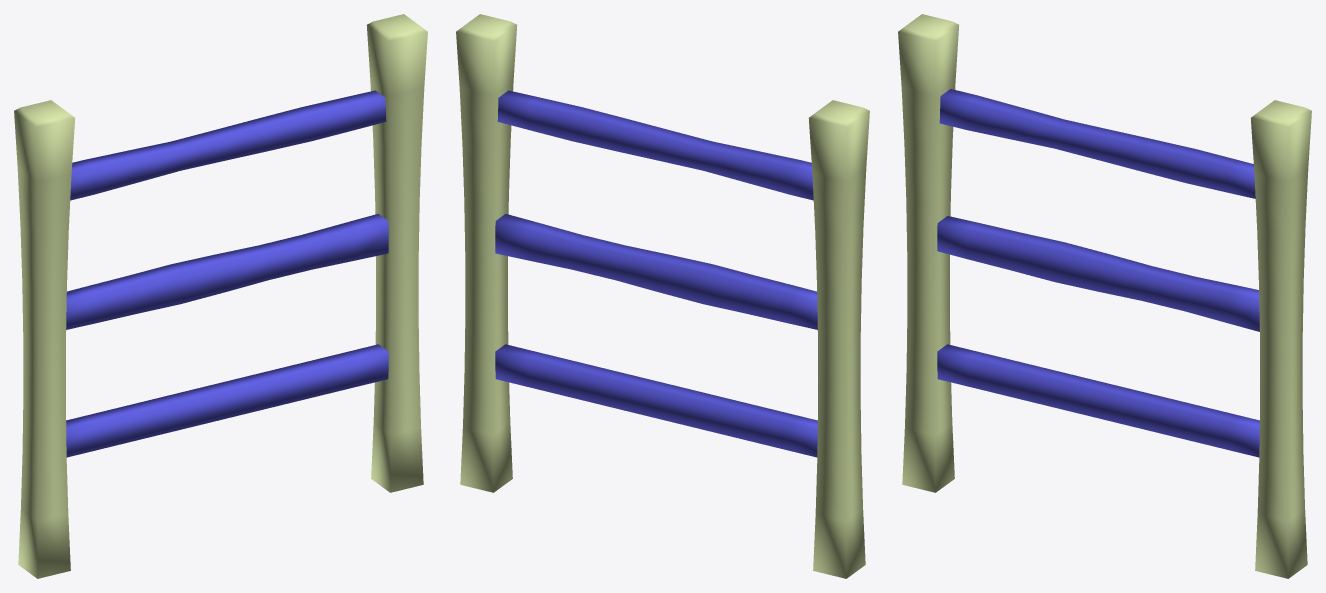
Rendered from Fence_01.obj.
3 views of the same model, side by side, from view 1: azimuth 30°, elevation 25°; view 2: azimuth 150°, elevation 25°; view 3: azimuth 330°, elevation 25° (orthographic).
Parts seen in each view (by area): view 1: FencePostL001, FencePostL010, FenceBarMiddle001, FenceBarBottom001, FenceBarTop001; view 2: FencePostL001, FencePostL010, FenceBarMiddle001, FenceBarBottom001, FenceBarTop001; view 3: FencePostL010, FencePostL001, FenceBarMiddle001, FenceBarBottom001, FenceBarTop001.
Part boxes in pixels (bbox=[...]): FencePostL001: bbox=[14, 100, 75, 578]; FencePostL010: bbox=[366, 14, 427, 492]; FenceBarMiddle001: bbox=[66, 213, 388, 329]; FenceBarBottom001: bbox=[66, 344, 388, 457]; FenceBarTop001: bbox=[70, 90, 386, 200]; FencePostL001: bbox=[808, 100, 869, 578]; FencePostL010: bbox=[456, 14, 517, 492]; FenceBarMiddle001: bbox=[495, 213, 817, 329]; FenceBarBottom001: bbox=[495, 344, 817, 457]; FenceBarTop001: bbox=[497, 90, 813, 200]; FencePostL010: bbox=[1250, 100, 1311, 578]; FencePostL001: bbox=[898, 14, 959, 492]; FenceBarMiddle001: bbox=[937, 216, 1259, 331]; FenceBarBottom001: bbox=[937, 344, 1259, 457]; FenceBarTop001: bbox=[939, 89, 1255, 198].
Size of the model in its own units: 88.17 by 98.43 by 8.74.
